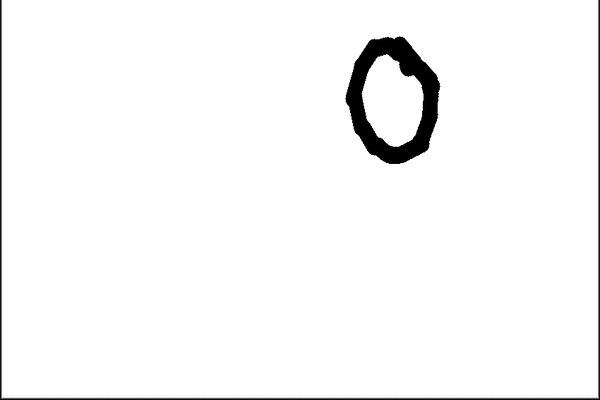O: (334, 31, 448, 174)
